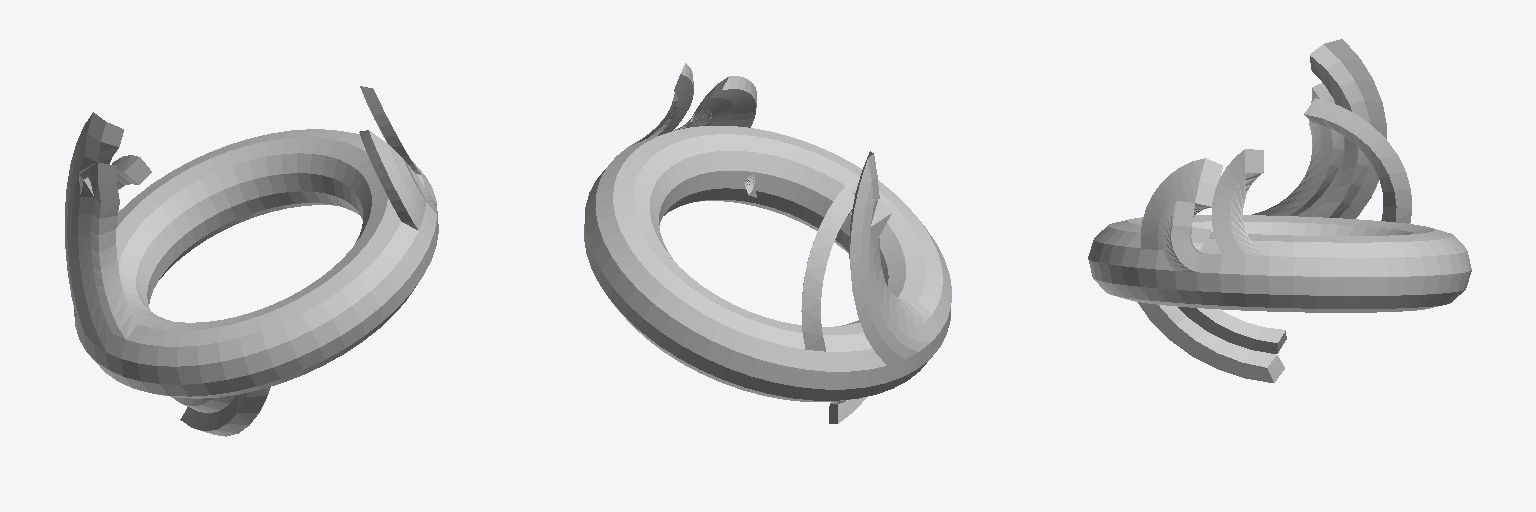
The model's file is val.obj.
The picture shows the model from 3 angles: view 1: azimuth 30°, elevation 25°; view 2: azimuth 150°, elevation 25°; view 3: azimuth 270°, elevation 25°; orthographic projection.
Visible parts, largest first — view 1: Torus; view 2: Torus; view 3: Torus.
Part boxes in pixels (bbox=[...]): Torus: bbox=[65, 86, 438, 436]; Torus: bbox=[584, 63, 951, 423]; Torus: bbox=[1088, 39, 1471, 382].
Size of the model in its own units: 14.11 by 13.4 by 14.97.